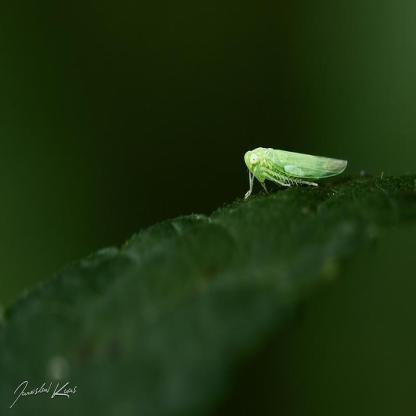green-leafhopper: (240, 146, 352, 199)
